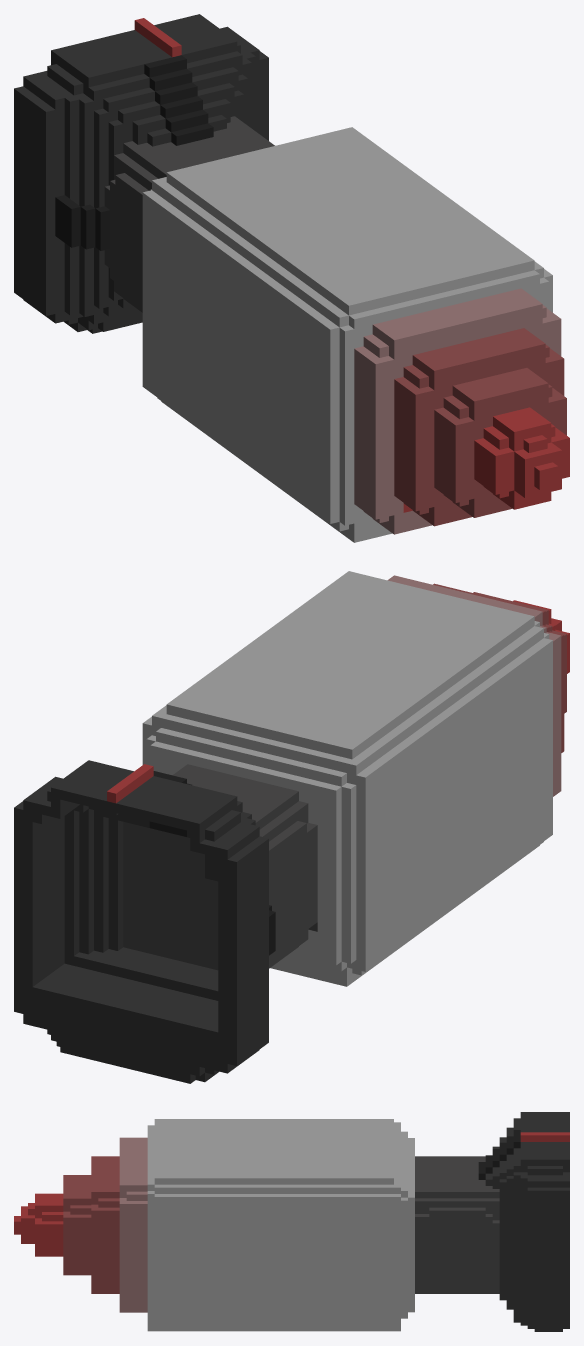
The model's file is JokerWarriror-8.obj.
3 renders of one model, top to bottom at view 1: azimuth 30°, elevation 25°; view 2: azimuth 150°, elevation 25°; view 3: azimuth 270°, elevation 25°, orthographic. The views are drawn at different scales.
Bounding box in the file's own units: 2.4 × 2.8 × 7.9.
Materials: 1 (1 with a texture image).
